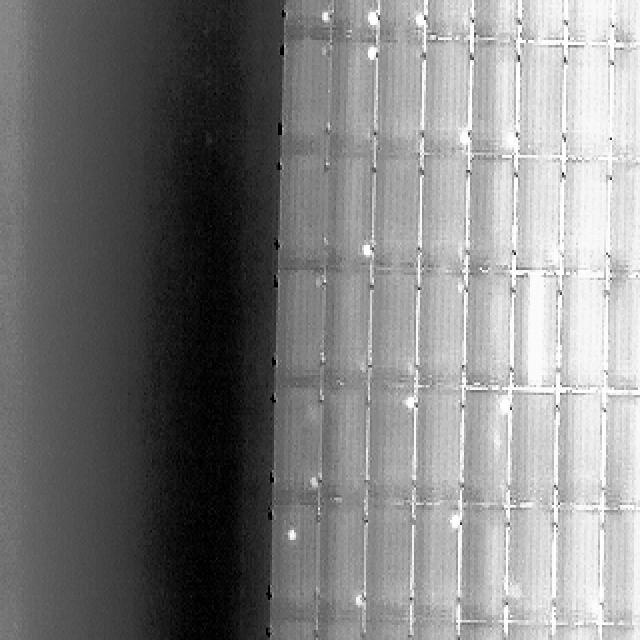Hotspots: (279, 521, 305, 552), (500, 573, 525, 602), (582, 596, 604, 621), (499, 133, 516, 154), (494, 394, 510, 414), (442, 507, 458, 527), (303, 476, 319, 496), (355, 245, 372, 263), (360, 10, 377, 27), (410, 13, 426, 31), (402, 396, 418, 413), (361, 46, 376, 64), (318, 11, 332, 28), (350, 596, 364, 610)
PV-modules: (321, 271, 372, 390), (553, 390, 604, 508), (413, 273, 464, 390), (326, 38, 376, 157), (551, 509, 602, 625), (468, 44, 519, 160), (419, 38, 470, 154), (507, 507, 558, 623), (466, 155, 516, 273), (368, 387, 418, 505), (512, 271, 562, 389), (268, 502, 317, 622), (279, 36, 328, 156), (316, 507, 367, 622), (458, 507, 509, 622), (509, 391, 560, 506), (463, 271, 513, 388), (558, 160, 608, 277), (366, 272, 416, 389), (461, 388, 511, 505), (418, 154, 467, 273), (517, 46, 568, 160), (368, 156, 419, 270), (365, 507, 416, 621), (318, 386, 368, 502), (515, 156, 565, 272), (375, 44, 425, 160), (555, 277, 605, 393), (273, 271, 322, 389), (322, 159, 374, 270), (411, 388, 461, 503), (562, 46, 611, 162), (270, 386, 319, 502), (412, 508, 461, 620), (276, 157, 324, 271), (600, 508, 640, 622), (602, 398, 640, 510), (604, 275, 640, 393), (606, 160, 640, 275), (608, 48, 640, 162), (562, 0, 612, 48), (518, 0, 568, 45), (376, 0, 428, 42), (470, 0, 520, 42), (422, 0, 472, 40), (328, 0, 378, 40), (286, 0, 336, 40), (612, 0, 640, 45), (410, 620, 460, 639), (316, 622, 368, 640), (362, 621, 414, 639), (268, 622, 317, 640), (505, 624, 557, 640), (458, 624, 509, 640), (549, 626, 601, 640), (596, 625, 640, 637)
